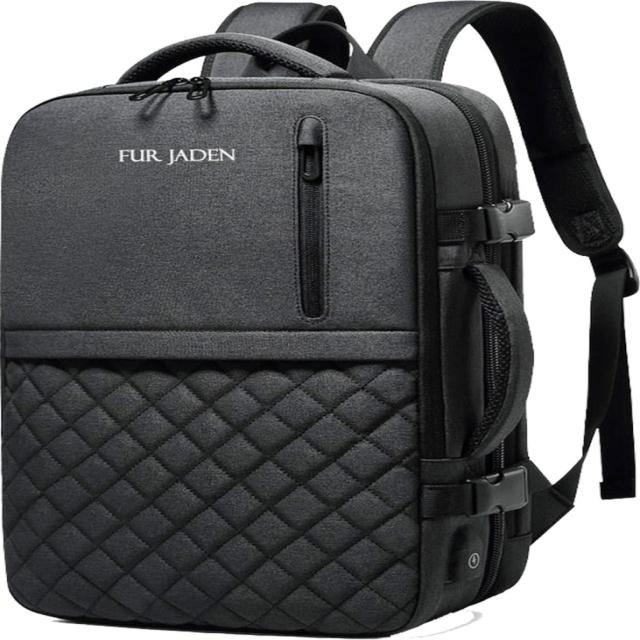backpack: (2, 2, 638, 639)
